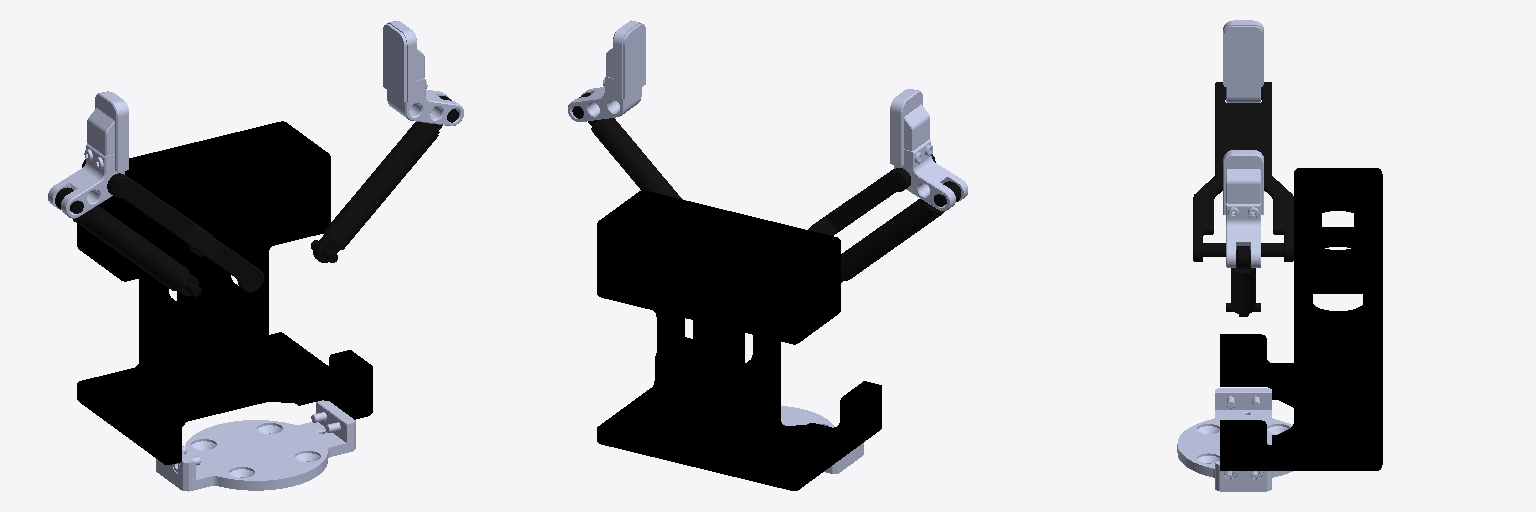
URDF robot description (box_ag145):
<?xml version="1.0" ?>
<!-- =================================================================================== -->
<!-- |    This document was autogenerated by xacro from src/dh_gripper/dh_gripper_description/dh_ag145_description/urdf/box_ag145.urdf.xacro | -->
<!-- |    EDITING THIS FILE BY HAND IS NOT RECOMMENDED                                 | -->
<!-- =================================================================================== -->
<robot name="box_ag145">
  <material name="aluminum">
    <color rgba="0.65 0.65 0.65 1.0"/>
  </material>
  <material name="gripper_box_black">
    <color rgba="0 0 0 1"/>
  </material>
  <link name="world"/>
  <link name="ag145_base_link">
    <visual>
      <origin rpy="1.57079 0 3.14159" xyz="0 0 0"/>
      <geometry>
        <mesh filename="package://dh_ag145_description/meshes/base_link.stl" scale="0.001 0.001 0.001"/>
      </geometry>
      <material name="blue_grey">
        <color rgba="0.792 0.819 0.933 1"/>
      </material>
    </visual>
    <collision>
      <origin rpy="1.57079 0 3.14159" xyz="0 0 0"/>
      <geometry>
        <mesh filename="package://dh_ag145_description/meshes/base_link.stl" scale="0.001 0.001 0.001"/>
      </geometry>
    </collision>
  </link>
  <link name="ag145_body_link">
    <visual>
      <origin rpy="1.57079 0 3.14159" xyz="0.00389 0.00075 0.05048"/>
      <geometry>
        <mesh filename="package://dh_ag145_description/meshes/body.stl" scale="0.001 0.001 0.001"/>
      </geometry>
      <material name="dark_grey">
        <color rgba="0.1 0.1 0.1 1"/>
      </material>
    </visual>
    <collision>
      <origin rpy="1.57079 0 3.14159" xyz="0.00389 0.00075 0.05048"/>
      <geometry>
        <mesh filename="package://dh_ag145_description/meshes/body.stl" scale="0.001 0.001 0.001"/>
      </geometry>
    </collision>
  </link>
  <link name="ag145_left_outer_knuckle">
    <visual>
      <origin rpy="1.57079 0 3.14159" xyz="0.03981 0.00075 -0.04785"/>
      <geometry>
        <mesh filename="package://dh_ag145_description/meshes/left_outer_knuckle.stl" scale="0.001 0.001 0.001"/>
      </geometry>
      <material name="dark_grey">
        <color rgba="0.1 0.1 0.1 1"/>
      </material>
    </visual>
    <collision>
      <origin rpy="1.57079 0 3.14159" xyz="0.03981 0.00075 -0.04785"/>
      <geometry>
        <mesh filename="package://dh_ag145_description/meshes/left_outer_knuckle.stl" scale="0.001 0.001 0.001"/>
      </geometry>
    </collision>
  </link>
  <link name="ag145_left_inner_knuckle">
    <visual>
      <origin rpy="1.57079 0.83872 -3.14159" xyz="-0.01432 0 0.01004"/>
      <geometry>
        <mesh filename="package://dh_ag145_description/meshes/left_inner_knuckle.stl" scale="0.001 0.001 0.001"/>
      </geometry>
      <material name="dark_grey">
        <color rgba="0.1 0.1 0.1 1"/>
      </material>
    </visual>
    <collision>
      <origin rpy="1.57079 0.83872 -3.14159" xyz="-0.01432 0 0.01004"/>
      <geometry>
        <mesh filename="package://dh_ag145_description/meshes/left_inner_knuckle.stl" scale="0.001 0.001 0.001"/>
      </geometry>
    </collision>
  </link>
  <link name="ag145_left_finger">
    <visual>
      <origin rpy="1.57079 0 3.14159" xyz="0.01917854988 0 0.00752444316"/>
      <geometry>
        <mesh filename="package://dh_ag145_description/meshes/left_finger.stl" scale="0.001 0.001 0.001"/>
      </geometry>
      <material name="blue_grey">
        <color rgba="0.792 0.819 0.933 1"/>
      </material>
    </visual>
    <collision>
      <origin rpy="1.57079 0 3.14159" xyz="0.01917854988 0 0.00752444316"/>
      <geometry>
        <mesh filename="package://dh_ag145_description/meshes/left_finger.stl" scale="0.001 0.001 0.001"/>
      </geometry>
    </collision>
  </link>
  <link name="ag145_right_outer_knuckle">
    <visual>
      <origin rpy="1.57079 0 3.14159" xyz="-0.03203 0.00075 -0.04785"/>
      <geometry>
        <mesh filename="package://dh_ag145_description/meshes/right_outer_knuckle.stl" scale="0.001 0.001 0.001"/>
      </geometry>
      <material name="dark_grey">
        <color rgba="0.1 0.1 0.1 1"/>
      </material>
    </visual>
    <collision>
      <origin rpy="1.57079 0 3.14159" xyz="-0.03203 0.00075 -0.04785"/>
      <geometry>
        <mesh filename="package://dh_ag145_description/meshes/right_outer_knuckle.stl" scale="0.001 0.001 0.001"/>
      </geometry>
    </collision>
  </link>
  <link name="ag145_right_inner_knuckle">
    <visual>
      <origin rpy="1.57079 0.83872 0" xyz="0.01432 0 0.01004"/>
      <geometry>
        <mesh filename="package://dh_ag145_description/meshes/right_inner_knuckle.stl" scale="0.001 0.001 0.001"/>
      </geometry>
      <material name="dark_grey">
        <color rgba="0.1 0.1 0.1 1"/>
      </material>
    </visual>
    <collision>
      <origin rpy="1.57079 0.83872 0" xyz="0.01432 0 0.01004"/>
      <geometry>
        <mesh filename="package://dh_ag145_description/meshes/right_inner_knuckle.stl" scale="0.001 0.001 0.001"/>
      </geometry>
    </collision>
  </link>
  <link name="ag145_right_finger">
    <visual>
      <origin rpy="1.57079 0 0" xyz="-0.01917854988 0 0.00752444316"/>
      <geometry>
        <mesh filename="package://dh_ag145_description/meshes/right_finger.stl" scale="0.001 0.001 0.001"/>
      </geometry>
      <material name="blue_grey">
        <color rgba="0.792 0.819 0.933 1"/>
      </material>
    </visual>
    <collision>
      <origin rpy="1.57079 0 0" xyz="-0.01917854988 0 0.00752444316"/>
      <geometry>
        <mesh filename="package://dh_ag145_description/meshes/right_finger.stl" scale="0.001 0.001 0.001"/>
      </geometry>
    </collision>
  </link>
  <joint name="ag145_base_to_body" type="fixed">
    <parent link="ag145_base_link"/>
    <child link="ag145_body_link"/>
    <origin rpy="0 0 0" xyz="0 0 0.0"/>
  </joint>
  <joint name="ag145_left_outer_knuckle_joint" type="revolute">
    <parent link="ag145_body_link"/>
    <child link="ag145_left_outer_knuckle"/>
    <origin rpy="0 0 0" xyz="-0.03592 0.0 0.09834"/>
    <axis xyz="0 1 0"/>
    <limit effort="100" lower="0.0" upper="0.93" velocity="0.1"/>
  </joint>
  <joint name="ag145_left_inner_knuckle_joint" type="revolute">
    <parent link="ag145_body_link"/>
    <child link="ag145_left_inner_knuckle"/>
    <origin rpy="0 0 0" xyz="-0.01674 0.0 0.10586"/>
    <axis xyz="0 1 0"/>
    <limit effort="100" lower="0.0" upper="0.93" velocity="0.1"/>
    <mimic joint="ag145_left_outer_knuckle_joint" multiplier="1" offset="0"/>
  </joint>
  <joint name="ag145_left_finger_joint" type="revolute">
    <parent link="ag145_left_outer_knuckle"/>
    <child link="ag145_left_finger"/>
    <origin rpy="0 0 0" xyz="-0.06400 0.0 0.05818"/>
    <axis xyz="0 1 0"/>
    <limit effort="100" lower="-0.93" upper="0" velocity="0.1"/>
    <mimic joint="ag145_left_outer_knuckle_joint" multiplier="-1" offset="0"/>
  </joint>
  <joint name="ag145_right_outer_knuckle_joint" type="revolute">
    <parent link="ag145_body_link"/>
    <child link="ag145_right_outer_knuckle"/>
    <origin rpy="0 0 0" xyz="0.03592 0.0 0.09834"/>
    <axis xyz="0 1 0"/>
    <limit effort="100" lower="-0.93" upper="0" velocity="0.1"/>
    <mimic joint="ag145_left_outer_knuckle_joint" multiplier="-1" offset="0"/>
  </joint>
  <joint name="ag145_right_inner_knuckle_joint" type="revolute">
    <parent link="ag145_body_link"/>
    <child link="ag145_right_inner_knuckle"/>
    <origin rpy="0 0 0" xyz="0.01674 0.0 0.10586"/>
    <axis xyz="0 1 0"/>
    <limit effort="100" lower="-0.93" upper="0" velocity="0.1"/>
    <mimic joint="ag145_left_outer_knuckle_joint" multiplier="-1" offset="0"/>
  </joint>
  <joint name="ag145_right_finger_joint" type="revolute">
    <parent link="ag145_right_outer_knuckle"/>
    <child link="ag145_right_finger"/>
    <origin rpy="0 0 0" xyz="0.06400 0.0 0.05818"/>
    <axis xyz="0 1 0"/>
    <limit effort="100" lower="0" upper="0.93" velocity="0.1"/>
    <mimic joint="ag145_left_outer_knuckle_joint" multiplier="1" offset="0"/>
  </joint>
  <joint name="ag145_gripper_base_joint" type="fixed">
    <parent link="world"/>
    <child link="ag145_base_link"/>
    <origin rpy="0 0 0" xyz="0 0 0.1"/>
  </joint>
  <link name="ag145_box1_link">
    <visual>
      <origin rpy="0 0 0" xyz="0 0 0"/>
      <geometry>
        <mesh filename="package://dh_ag145_description/meshes/Gripperbox1.stl" scale="0.001 0.001 0.001"/>
      </geometry>
      <material name="gripper_box_black"/>
    </visual>
    <collision>
      <origin rpy="0 0 0" xyz="0 0 0"/>
      <geometry>
        <mesh filename="package://dh_ag145_description/meshes/Gripperbox1.stl" scale="0.001 0.001 0.001"/>
      </geometry>
    </collision>
  </link>
  <joint name="ag145_base_to_box1" type="fixed">
    <parent link="ag145_base_link"/>
    <child link="ag145_box1_link"/>
    <origin rpy="0 0 1.5708" xyz="0.046207 0.0143 0.014717"/>
  </joint>
  <link name="ag145_camera_mount"/>
  <joint name="ag145_gripper_camera_mount_joint" type="fixed">
    <parent link="ag145_box1_link"/>
    <child link="ag145_camera_mount"/>
    <origin rpy="0 -1.5708 0" xyz="0.045 0.045 0.095025"/>
  </joint>
  <!-- camera body, with origin at bottom screw mount -->
  <joint name="camera_joint" type="fixed">
    <origin rpy="0 0 0" xyz="0 0 0"/>
    <parent link="ag145_camera_mount"/>
    <child link="camera_bottom_screw_frame"/>
  </joint>
  <link name="camera_bottom_screw_frame"/>
  <joint name="camera_link_joint" type="fixed">
    <origin rpy="0 0 0" xyz="0.010600000000000002 0.0175 0.0125"/>
    <parent link="camera_bottom_screw_frame"/>
    <child link="camera_link"/>
  </joint>
  <link name="camera_link">
    <visual>
      <!-- the mesh origin is at front plate in between the two infrared camera axes -->
      <origin rpy="1.5707963267948966 0 1.5707963267948966" xyz="0.0043 -0.0175 0"/>
      <geometry>
        <mesh filename="package://sdml_a0509_camera/meshes/d435.stl"/>
      </geometry>
      <material name="aluminum"/>
    </visual>
    <collision>
      <origin rpy="0 0 0" xyz="0 -0.0175 0"/>
      <geometry>
        <box size="0.02505 0.09 0.025"/>
      </geometry>
    </collision>
    <inertial>
      <!-- The following are not reliable values, and should not be used for modeling -->
      <mass value="0.072"/>
      <origin xyz="0 0 0"/>
      <inertia ixx="0.003881243" ixy="0.0" ixz="0.0" iyy="0.000498940" iyz="0.0" izz="0.003879257"/>
    </inertial>
  </link>
  <!-- camera depth joints and links -->
  <joint name="camera_depth_joint" type="fixed">
    <origin rpy="0 0 0" xyz="0 0 0"/>
    <parent link="camera_link"/>
    <child link="camera_depth_frame"/>
  </joint>
  <link name="camera_depth_frame"/>
  <joint name="camera_depth_optical_joint" type="fixed">
    <origin rpy="-1.5707963267948966 0 -1.5707963267948966" xyz="0 0 0"/>
    <parent link="camera_depth_frame"/>
    <child link="camera_depth_optical_frame"/>
  </joint>
  <link name="camera_depth_optical_frame"/>
  <!-- camera left IR joints and links -->
  <joint name="camera_infra1_joint" type="fixed">
    <origin rpy="0 0 0" xyz="0 0.0 0"/>
    <parent link="camera_link"/>
    <child link="camera_infra1_frame"/>
  </joint>
  <link name="camera_infra1_frame"/>
  <joint name="camera_infra1_optical_joint" type="fixed">
    <origin rpy="-1.5707963267948966 0 -1.5707963267948966" xyz="0 0 0"/>
    <parent link="camera_infra1_frame"/>
    <child link="camera_infra1_optical_frame"/>
  </joint>
  <link name="camera_infra1_optical_frame"/>
  <!-- camera right IR joints and links -->
  <joint name="camera_infra2_joint" type="fixed">
    <origin rpy="0 0 0" xyz="0 -0.05 0"/>
    <parent link="camera_link"/>
    <child link="camera_infra2_frame"/>
  </joint>
  <link name="camera_infra2_frame"/>
  <joint name="camera_infra2_optical_joint" type="fixed">
    <origin rpy="-1.5707963267948966 0 -1.5707963267948966" xyz="0 0 0"/>
    <parent link="camera_infra2_frame"/>
    <child link="camera_infra2_optical_frame"/>
  </joint>
  <link name="camera_infra2_optical_frame"/>
  <!-- camera color joints and links -->
  <joint name="camera_color_joint" type="fixed">
    <origin rpy="0 0 0" xyz="0 0.015 0"/>
    <parent link="camera_link"/>
    <child link="camera_color_frame"/>
  </joint>
  <link name="camera_color_frame"/>
  <joint name="camera_color_optical_joint" type="fixed">
    <origin rpy="-1.5707963267948966 0 -1.5707963267948966" xyz="0 0 0"/>
    <parent link="camera_color_frame"/>
    <child link="camera_color_optical_frame"/>
  </joint>
  <link name="camera_color_optical_frame"/>
  <link name="camera_accel_frame"/>
  <link name="camera_accel_optical_frame"/>
  <link name="camera_gyro_frame"/>
  <link name="camera_gyro_optical_frame"/>
  <joint name="camera_accel_joint" type="fixed">
    <origin rpy="0 0 0" xyz="-0.01174 -0.00552 0.0051"/>
    <parent link="camera_link"/>
    <child link="camera_accel_frame"/>
  </joint>
  <joint name="camera_accel_optical_joint" type="fixed">
    <origin rpy="-1.5707963267948966 0 -1.5707963267948966" xyz="0 0 0"/>
    <parent link="camera_accel_frame"/>
    <child link="camera_accel_optical_frame"/>
  </joint>
  <joint name="camera_gyro_joint" type="fixed">
    <origin rpy="0 0 0" xyz="-0.01174 -0.00552 0.0051"/>
    <parent link="camera_link"/>
    <child link="camera_gyro_frame"/>
  </joint>
  <joint name="camera_gyro_optical_joint" type="fixed">
    <origin rpy="-1.5707963267948966 0 -1.5707963267948966" xyz="0 0 0"/>
    <parent link="camera_gyro_frame"/>
    <child link="camera_gyro_optical_frame"/>
  </joint>
</robot>

--- What the picture shows (computed from the rendered views, not written in the file) ---
Views: 3 orthographic renders of the robot side by side, from view 1: azimuth 30°, elevation 25°; view 2: azimuth 150°, elevation 25°; view 3: azimuth 270°, elevation 25°.
Robot: box_ag145 — 25 links, 24 joints (6 revolute, 18 fixed); root link world; default pose: every joint at zero.
Visible links, largest first — view 1: ag145_box1_link, ag145_base_link, ag145_left_finger, ag145_right_outer_knuckle, ag145_right_finger, ag145_left_inner_knuckle, ag145_left_outer_knuckle; view 2: ag145_box1_link, ag145_left_finger, ag145_right_finger, ag145_left_outer_knuckle, ag145_right_outer_knuckle, ag145_left_inner_knuckle, ag145_base_link; view 3: ag145_box1_link, ag145_left_inner_knuckle, ag145_base_link, ag145_right_finger, ag145_left_finger, ag145_right_outer_knuckle.
Boxes of the visible links, left/top/right/bottom form: ag145_box1_link: left=77, top=121, right=372, bottom=464; ag145_base_link: left=156, top=400, right=355, bottom=491; ag145_left_finger: left=48, top=91, right=128, bottom=218; ag145_right_outer_knuckle: left=311, top=96, right=458, bottom=262; ag145_right_finger: left=383, top=21, right=463, bottom=125; ag145_left_inner_knuckle: left=82, top=159, right=263, bottom=292; ag145_left_outer_knuckle: left=55, top=187, right=201, bottom=296; ag145_box1_link: left=597, top=190, right=881, bottom=490; ag145_left_finger: left=890, top=89, right=967, bottom=210; ag145_right_finger: left=568, top=20, right=645, bottom=121; ag145_left_outer_knuckle: left=841, top=181, right=960, bottom=282; ag145_right_outer_knuckle: left=572, top=93, right=682, bottom=199; ag145_left_inner_knuckle: left=808, top=154, right=935, bottom=235; ag145_base_link: left=781, top=406, right=863, bottom=473; ag145_box1_link: left=1220, top=168, right=1382, bottom=470; ag145_left_inner_knuckle: left=1193, top=82, right=1293, bottom=261; ag145_base_link: left=1177, top=388, right=1292, bottom=491; ag145_right_finger: left=1223, top=150, right=1263, bottom=267; ag145_left_finger: left=1223, top=20, right=1263, bottom=102; ag145_right_outer_knuckle: left=1226, top=246, right=1260, bottom=316.
Bounding box of the posed robot: 0.2138 × 0.1039 × 0.2078 m (x, y, z).
7 mesh visuals loaded from 10 distinct referenced files (7 binary STL); not drawn: 3 (reference not matched to a file when rendering).
